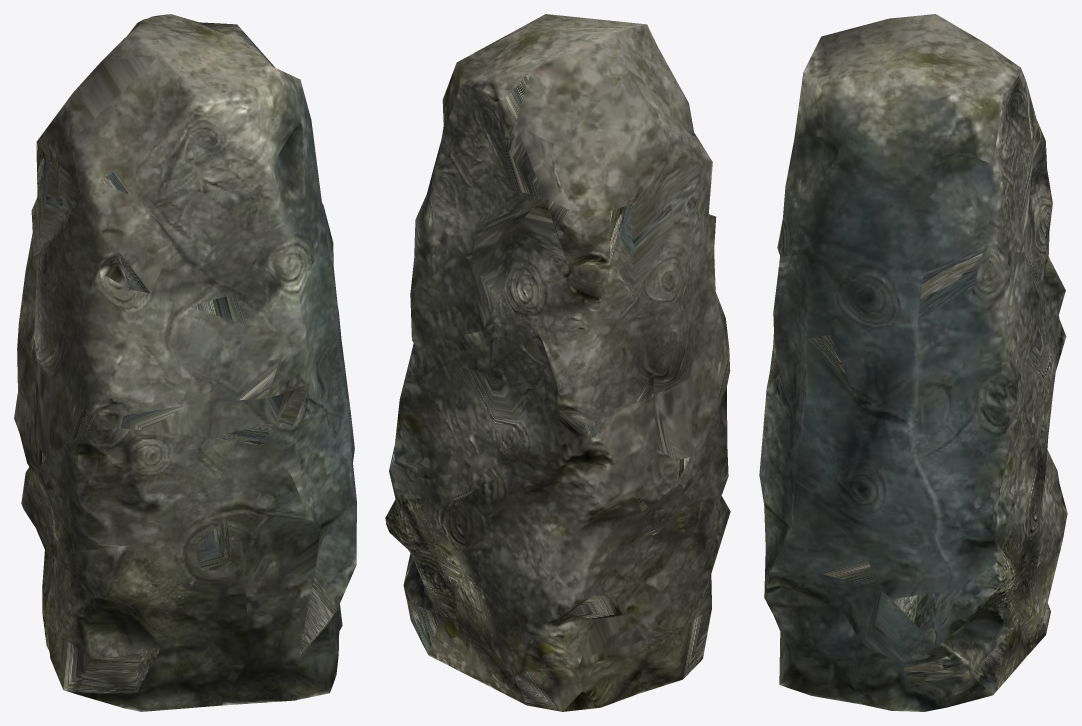
The model's file is monolith_lod2.glb.
3 renders of one model, left to right at view 1: azimuth 30°, elevation 25°; view 2: azimuth 150°, elevation 25°; view 3: azimuth 270°, elevation 25°, orthographic. The views are drawn at different scales.
Parts seen in each view (by area): view 1: monolith_lod2; view 2: monolith_lod2; view 3: monolith_lod2.
Part boxes in pixels (x1=…): monolith_lod2: x1=14, y1=14, x2=356, y2=711; monolith_lod2: x1=385, y1=14, x2=730, y2=711; monolith_lod2: x1=759, y1=14, x2=1067, y2=711.
Size of the model in its own units: 5.72 by 12 by 5.44.
1 material, 1 textured.
